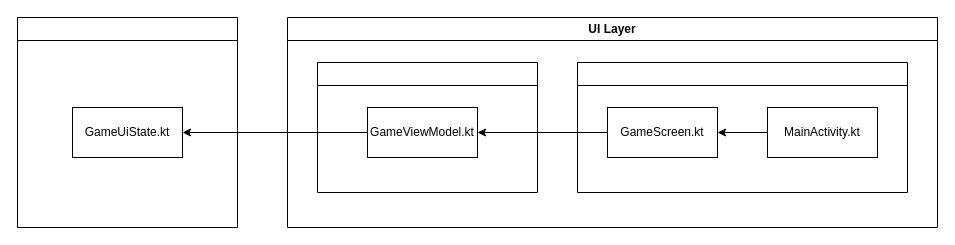
The diagram is 955 pixels wide and 245 high, and some of its shapes have lost their labels. Here are the shapes that lost their labels. From the top down, the box of each, then its label:
(16, 16, 238, 228): Data Layer
(316, 62, 538, 192): State Holder
(576, 62, 908, 192): UI Elements
